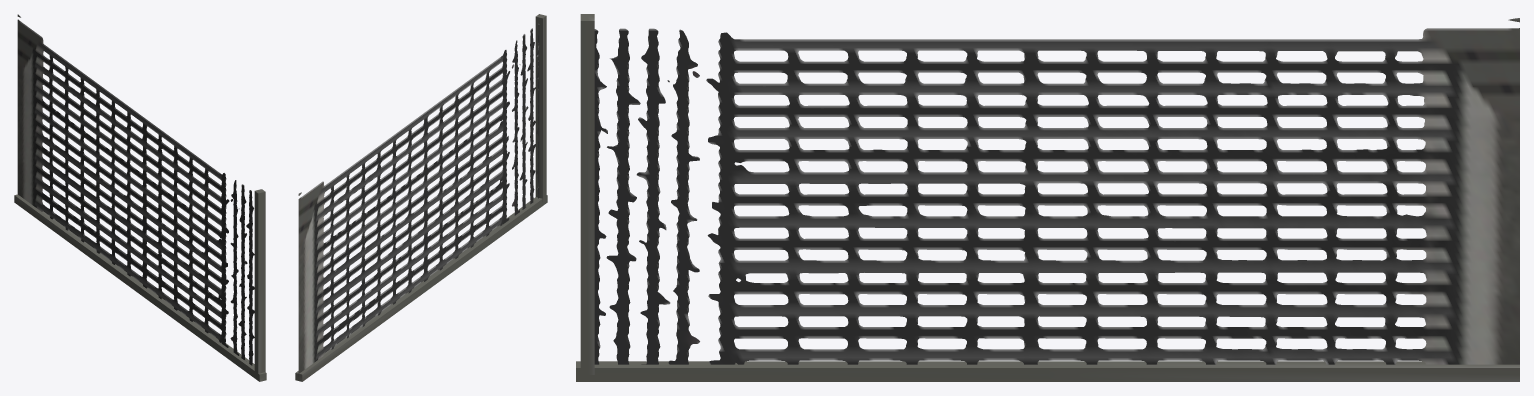
File: pz_fence_png_fencing_01_50.obj
3 views of the same model, side by side, from view 1: azimuth 30°, elevation 25°; view 2: azimuth 150°, elevation 25°; view 3: azimuth 270°, elevation 25° (orthographic). The views are drawn at different scales.
Size of the model in its own units: 0.042 by 1.02 by 2.41.
1 material, 1 textured.
